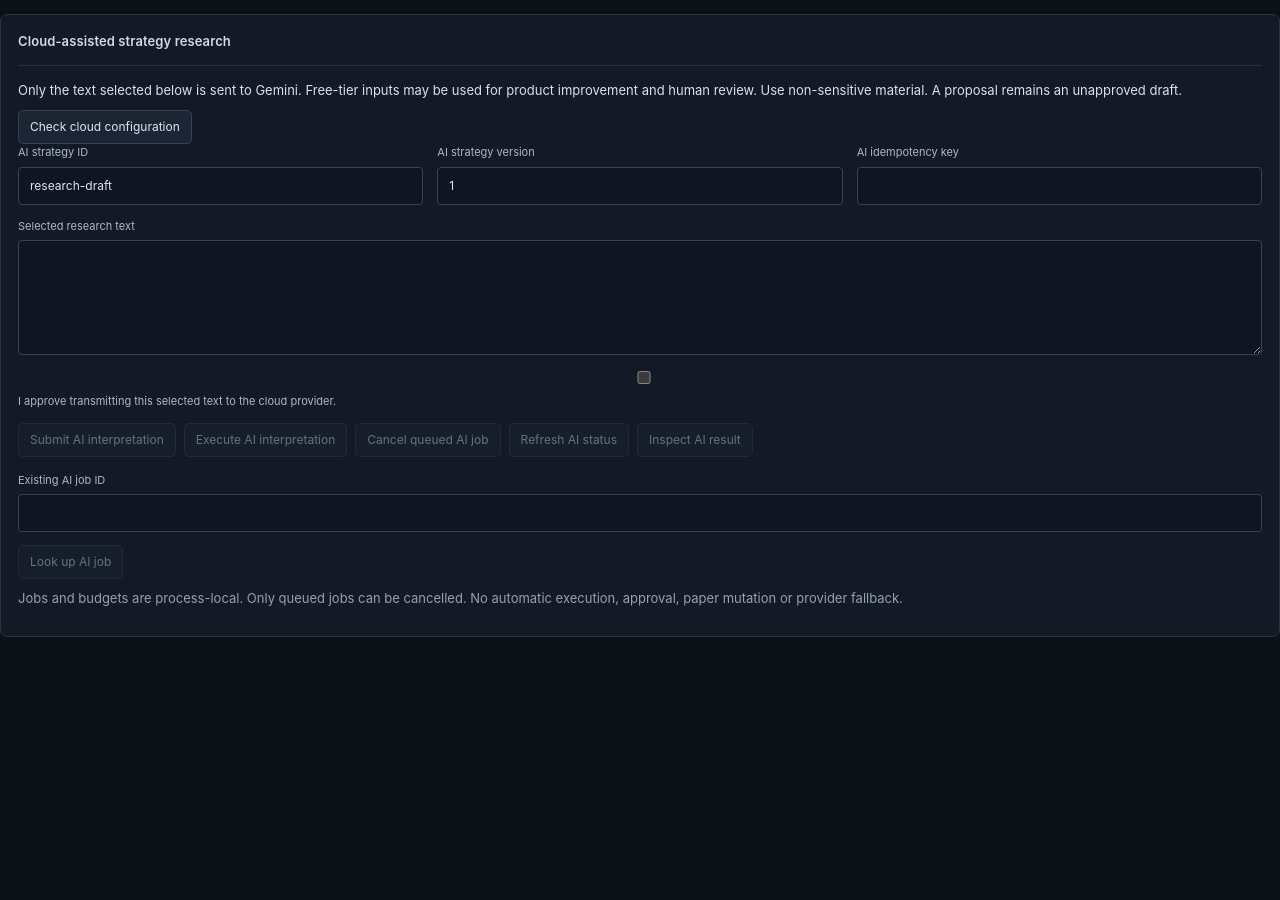
cloud research UI and authenticated routes › shows free_policy_rejected and disables submission
The image size is (1280, 900).
Click the button "Check cloud configuration" at (105, 127), box [18,110,192,144]
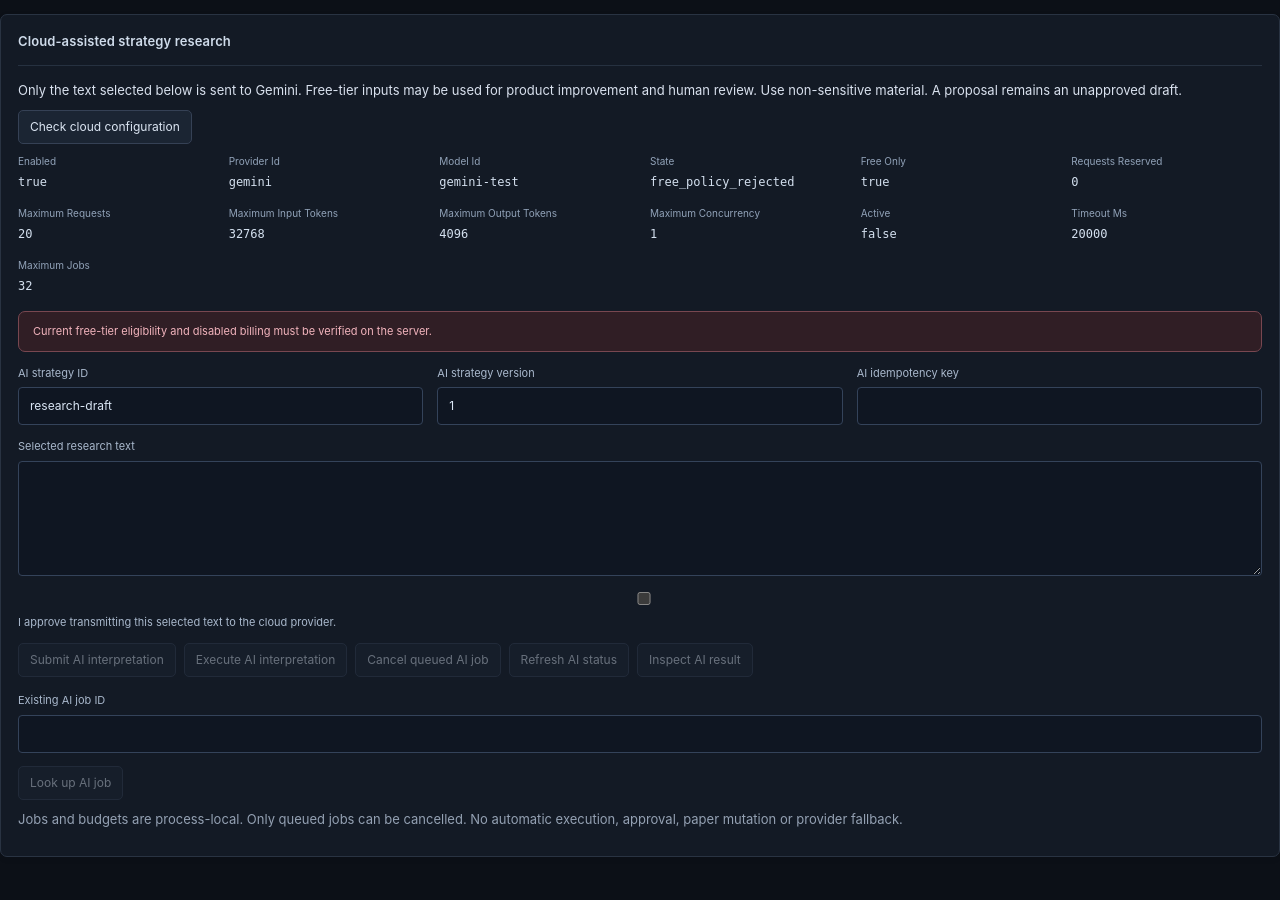
Check: the button "Submit AI interpretation" is disabled, box [18,643,176,677]
Check: the message is shown, box [18,311,1262,352]
